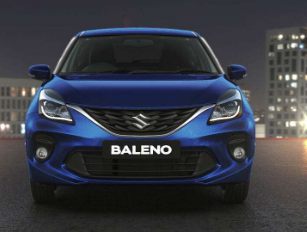car: (24, 26, 256, 206)
